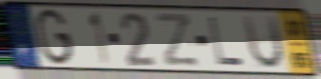1: (88, 9, 111, 68)
2: (119, 10, 159, 69)
G: (34, 7, 75, 68)
L: (207, 15, 246, 68)
U: (240, 14, 286, 72)
Z: (153, 11, 201, 69)
